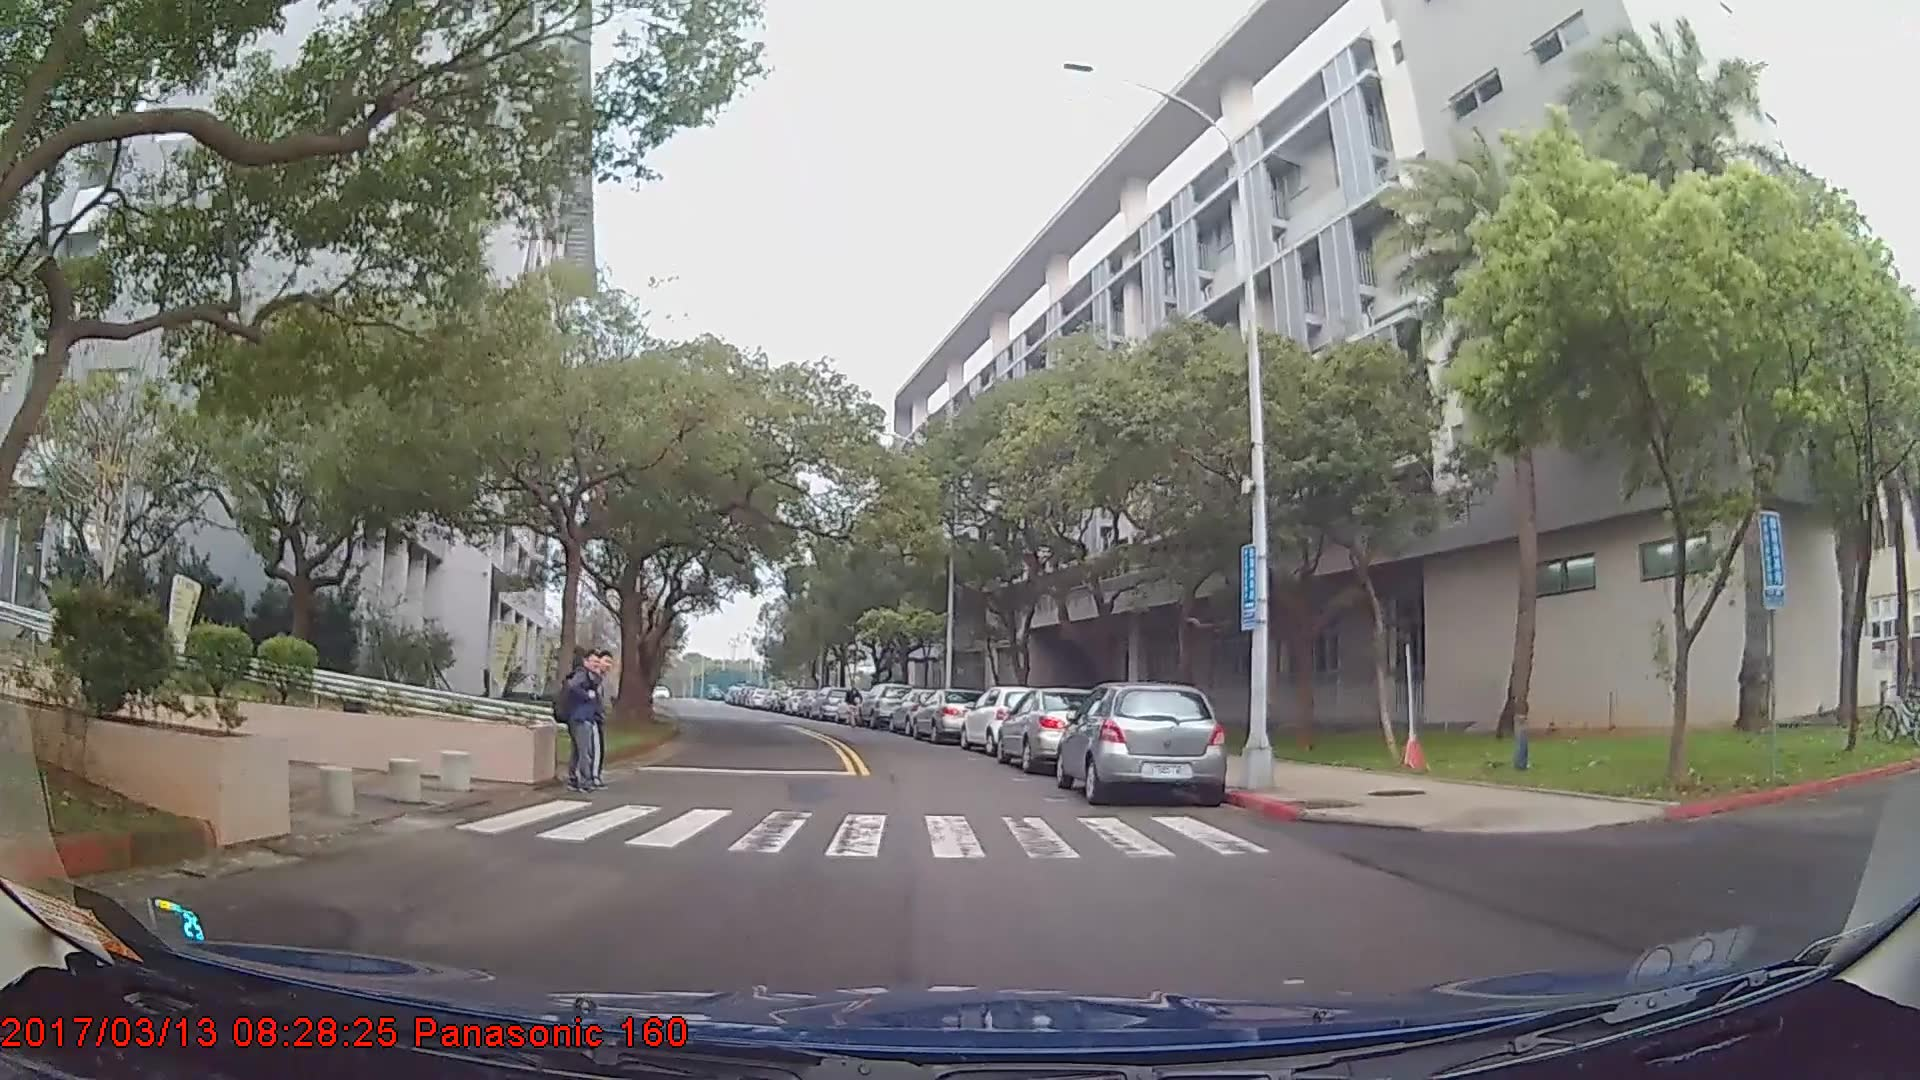pedestrian: (553, 651, 610, 797), (845, 681, 865, 731)
vehicle: (1056, 680, 1227, 805), (993, 686, 1107, 774), (959, 685, 1053, 757), (908, 685, 988, 743), (856, 681, 913, 727), (812, 685, 849, 721)
